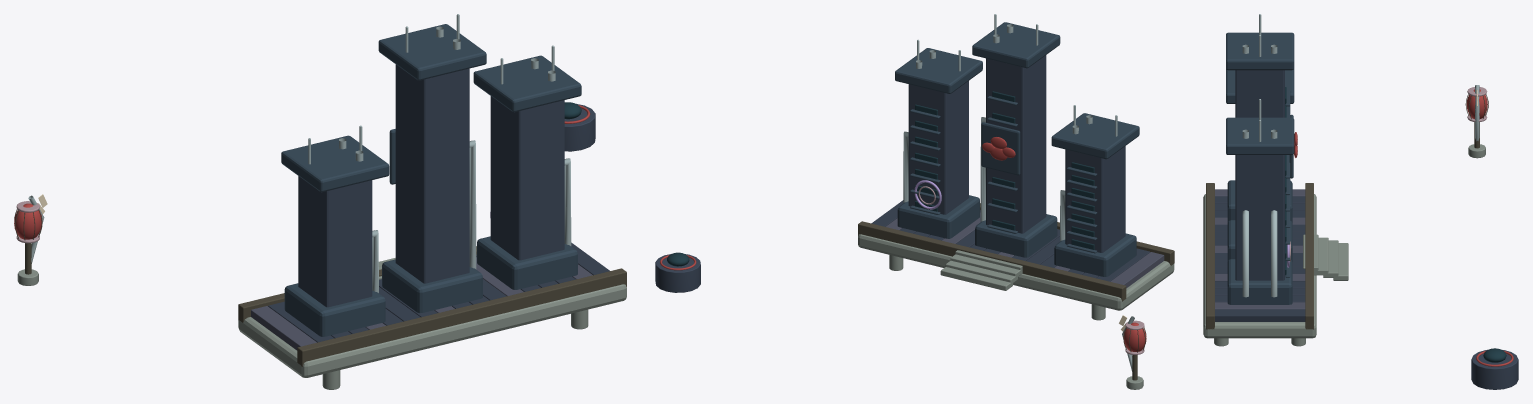
The model's file is akatsuki.glb.
3 renders of one model, left to right at view 1: azimuth 30°, elevation 25°; view 2: azimuth 150°, elevation 25°; view 3: azimuth 270°, elevation 25°, orthographic. The views are drawn at different scales.
Visible parts, largest first — view 1: Weathered rain tower.001, Weathered rain tower.002, Weathered rain tower, Foundation stone, Mortised deck edge, Overhanging tower crown.001, Overhanging tower crown.002, Overhanging tower crown, Rain tower footing, Rain tower footing.002, Rain tower footing.001, Individual deck plank (+8 smaller); view 2: Weathered rain tower.001, Weathered rain tower.002, Weathered rain tower, Foundation stone, Mortised deck edge.001, Overhanging tower crown, Overhanging tower crown.001, Overhanging tower crown.002, Rain tower footing, Rain tower footing.002, Rain tower footing.001, Akatsuki enamel screen (+8 smaller); view 3: Weathered rain tower.002, Overhanging tower crown.001, Overhanging tower crown.002, Foundation stone, Weathered rain tower.001, Rain tower footing.002, Seal pedestal, Mortised deck edge, Mortised deck edge.001, Individual deck plank.017, External rain drain.004, External rain drain.005 (+10 smaller).
Part boxes in pixels (x1,y1,x2,y2): Weathered rain tower.001: (395, 64, 469, 283); Weathered rain tower.002: (490, 96, 564, 260); Weathered rain tower: (298, 176, 372, 307); Foundation stone: (238, 284, 626, 377); Mortised deck edge: (297, 268, 626, 366); Overhanging tower crown.001: (378, 24, 486, 80); Overhanging tower crown.002: (473, 55, 581, 112); Overhanging tower crown: (281, 135, 389, 192); Rain tower footing: (284, 283, 385, 336); Rain tower footing.002: (477, 236, 577, 289); Rain tower footing.001: (382, 259, 482, 313); Individual deck plank: (251, 306, 316, 350); Weathered rain tower.001: (986, 55, 1046, 233); Weathered rain tower.002: (908, 81, 968, 214); Weathered rain tower: (1065, 146, 1125, 252); Foundation stone: (858, 234, 1174, 310); Mortised deck edge.001: (858, 221, 1126, 301); Overhanging tower crown: (1051, 113, 1139, 159); Overhanging tower crown.001: (972, 22, 1060, 68); Overhanging tower crown.002: (895, 48, 982, 93); Rain tower footing: (1054, 233, 1136, 276); Rain tower footing.002: (897, 195, 979, 238); Rain tower footing.001: (975, 214, 1057, 257); Akatsuki enamel screen: (981, 122, 1020, 175); Weathered rain tower.002: (1235, 155, 1284, 280); Overhanging tower crown.001: (1226, 32, 1294, 70); Overhanging tower crown.002: (1226, 117, 1294, 154); Foundation stone: (1203, 194, 1316, 338); Weathered rain tower.001: (1235, 70, 1284, 117); Rain tower footing.002: (1227, 259, 1292, 304); Seal pedestal: (1471, 349, 1518, 389); Mortised deck edge: (1206, 183, 1214, 329); Mortised deck edge.001: (1305, 183, 1313, 329); Individual deck plank.017: (1215, 309, 1305, 321); External rain drain.004: (1242, 129, 1248, 297); External rain drain.005: (1271, 129, 1277, 297).
Bounding box in the file's own units: 4.83 × 2.5 × 2.67.
